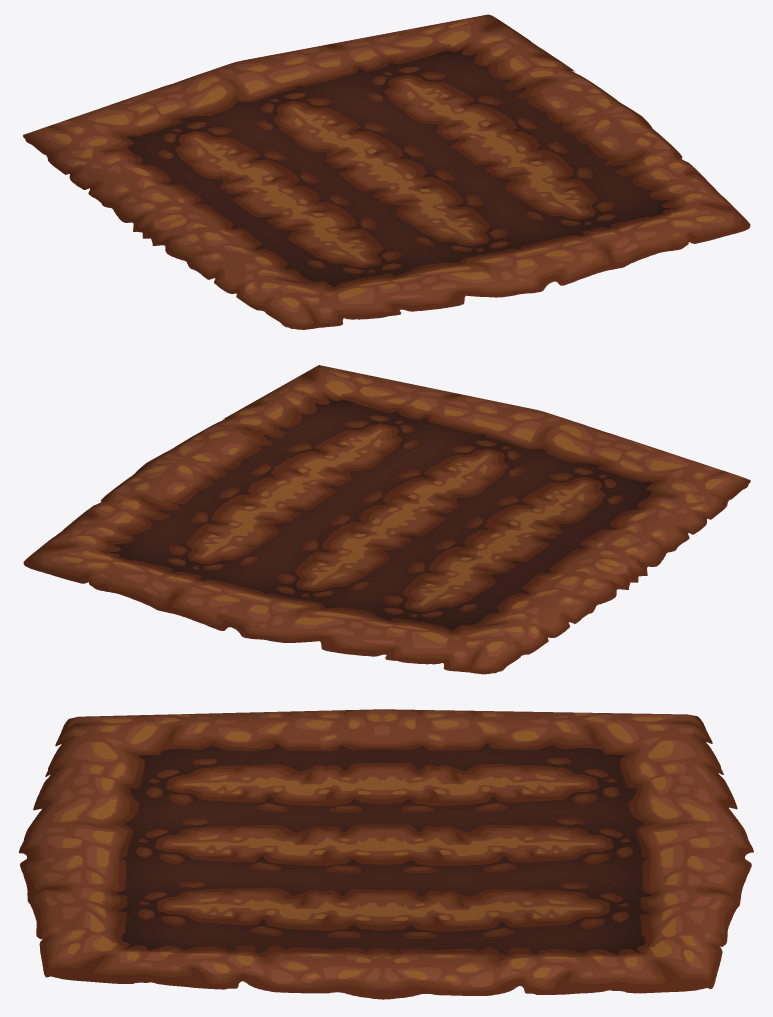
File: Empty_Field.FBX
3 renders of one model, top to bottom at view 1: azimuth 30°, elevation 25°; view 2: azimuth 150°, elevation 25°; view 3: azimuth 270°, elevation 25°, orthographic. The views are drawn at different scales.
Visible parts, largest first — view 1: Empty_Field; view 2: Empty_Field; view 3: Empty_Field.
Part boxes in pixels (x1=…): Empty_Field: x1=23, y1=14, x2=750, y2=329; Empty_Field: x1=23, y1=365, x2=750, y2=674; Empty_Field: x1=18, y1=709, x2=753, y2=999.
Bounding box in the file's own units: 274 × 6.76 × 296.
